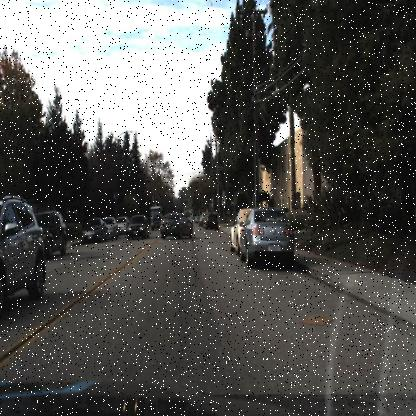car: (0, 192, 46, 308), (239, 207, 293, 267), (35, 198, 76, 265), (223, 198, 248, 268), (34, 210, 68, 257), (156, 209, 194, 244), (158, 212, 196, 239), (78, 216, 108, 249), (125, 209, 149, 241), (80, 220, 108, 242), (105, 214, 118, 242), (203, 208, 221, 228), (116, 215, 130, 238), (148, 210, 162, 232)
truck: (148, 203, 162, 220)
